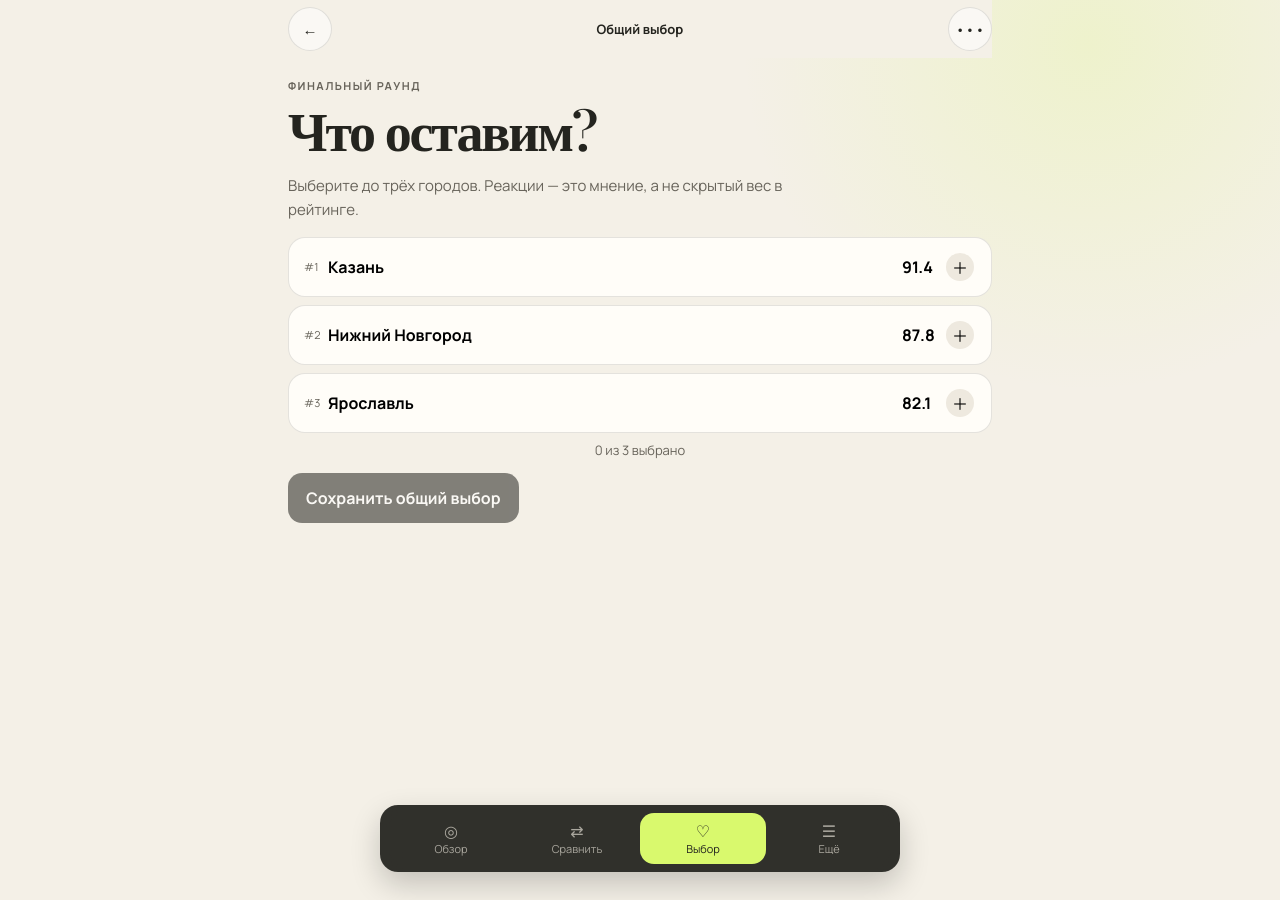
Test: core trip pages › persists reactions and shortlist choices
Check: the heading "Что оставим?" is shown, box [288,93,596,165]
Click the button with class "shortlist-item" showing "#1 Казань 91.4 ＋" at (356, 267), box [288,237,992,297]
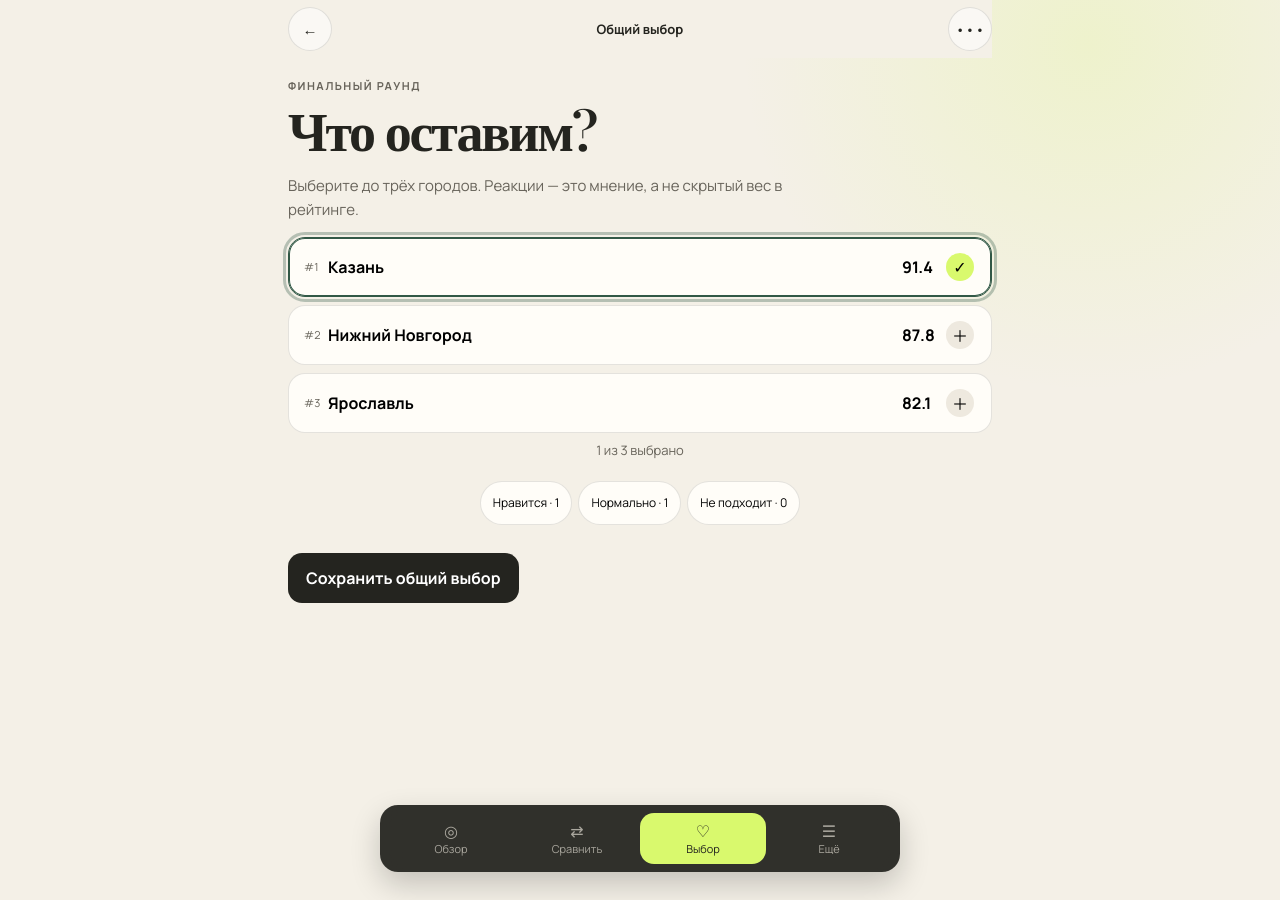
Click the button "Нравится · 1" at (526, 503), box [480,481,572,525]
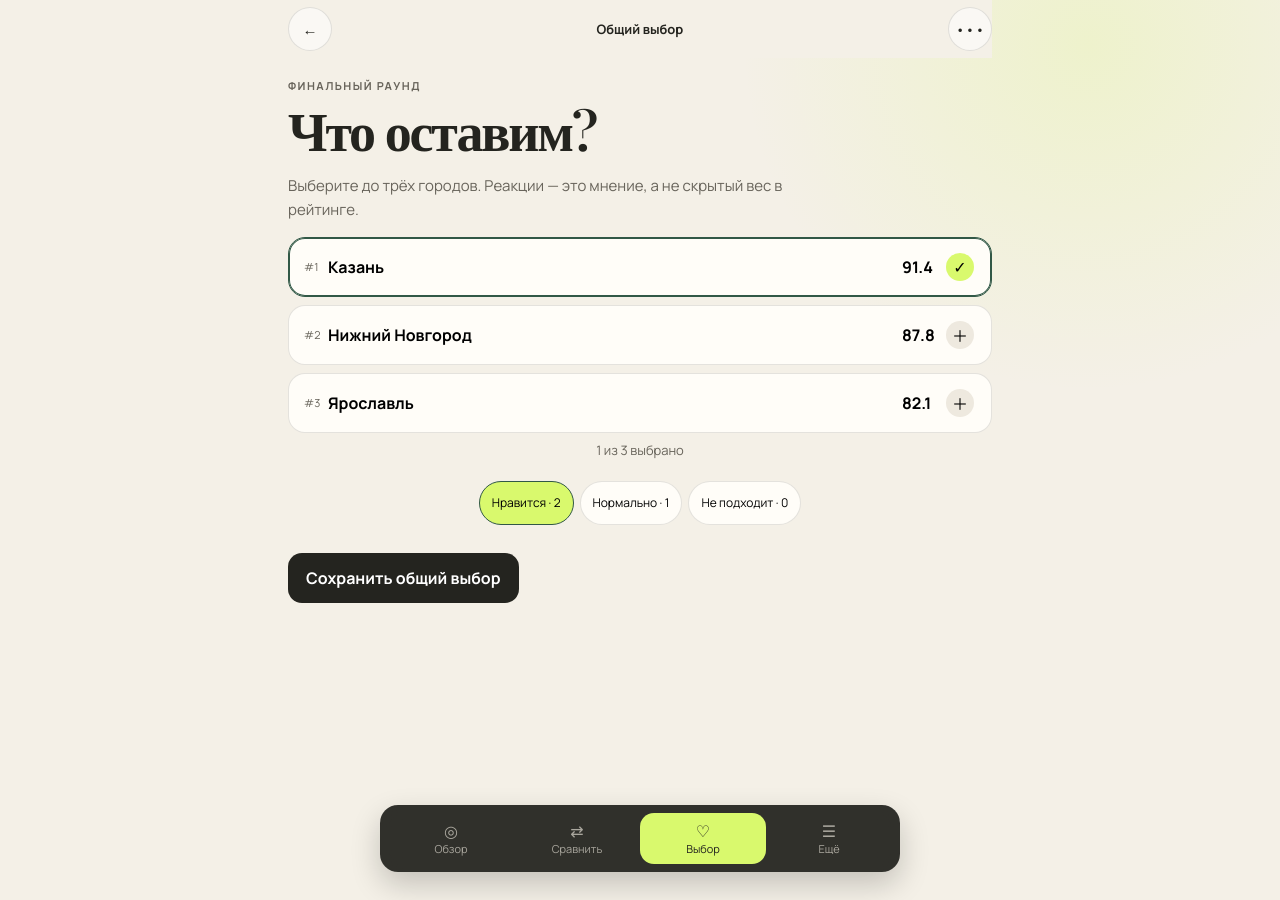
Check: the button "Нравится · 2" is shown, box [479,481,574,525]
Click the button "Сохранить общий выбор" at (403, 578), box [288,553,519,603]
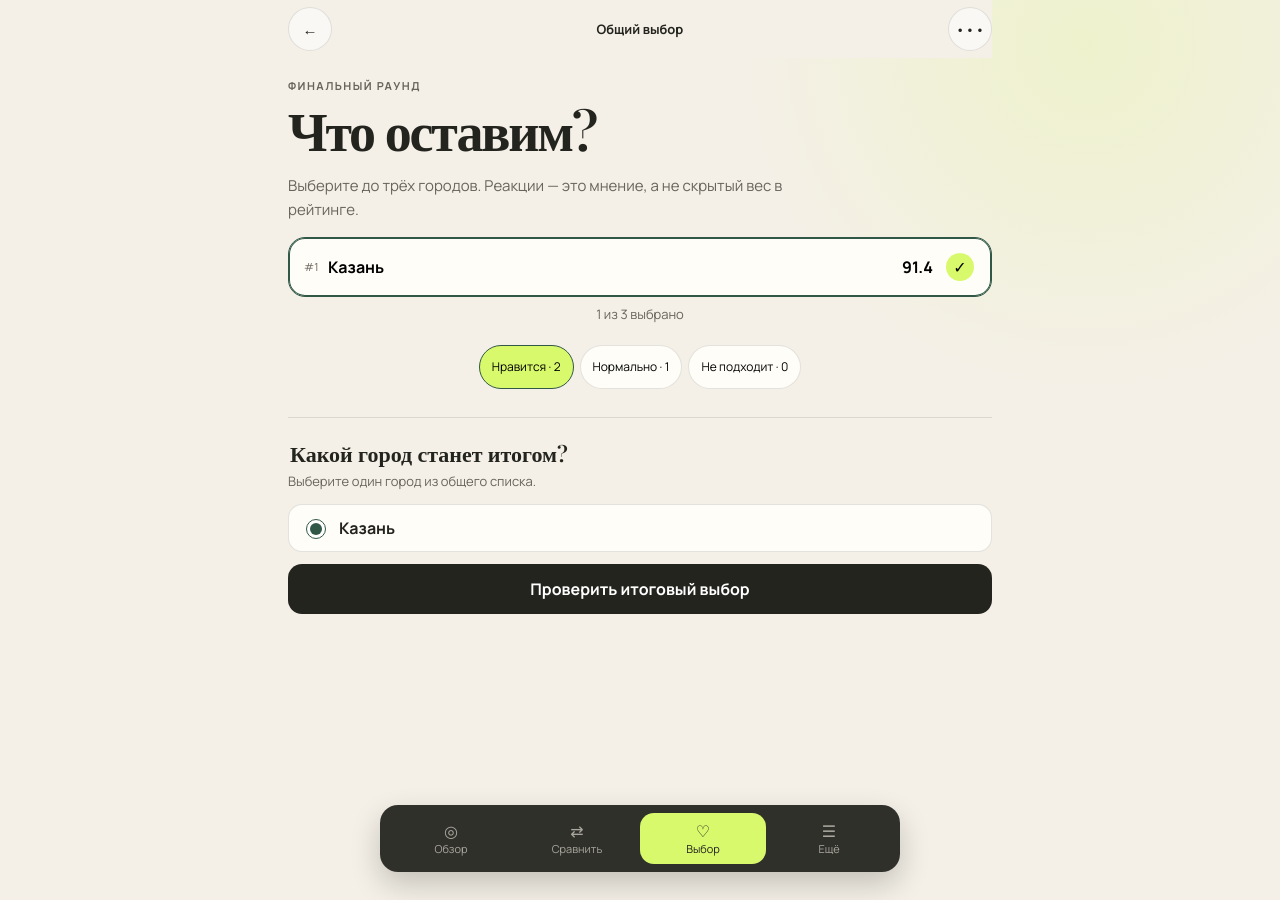
Check: the button "Проверить итоговый выбор" is shown
Click the button "Проверить итоговый выбор" at (640, 589), box [288,564,992,614]
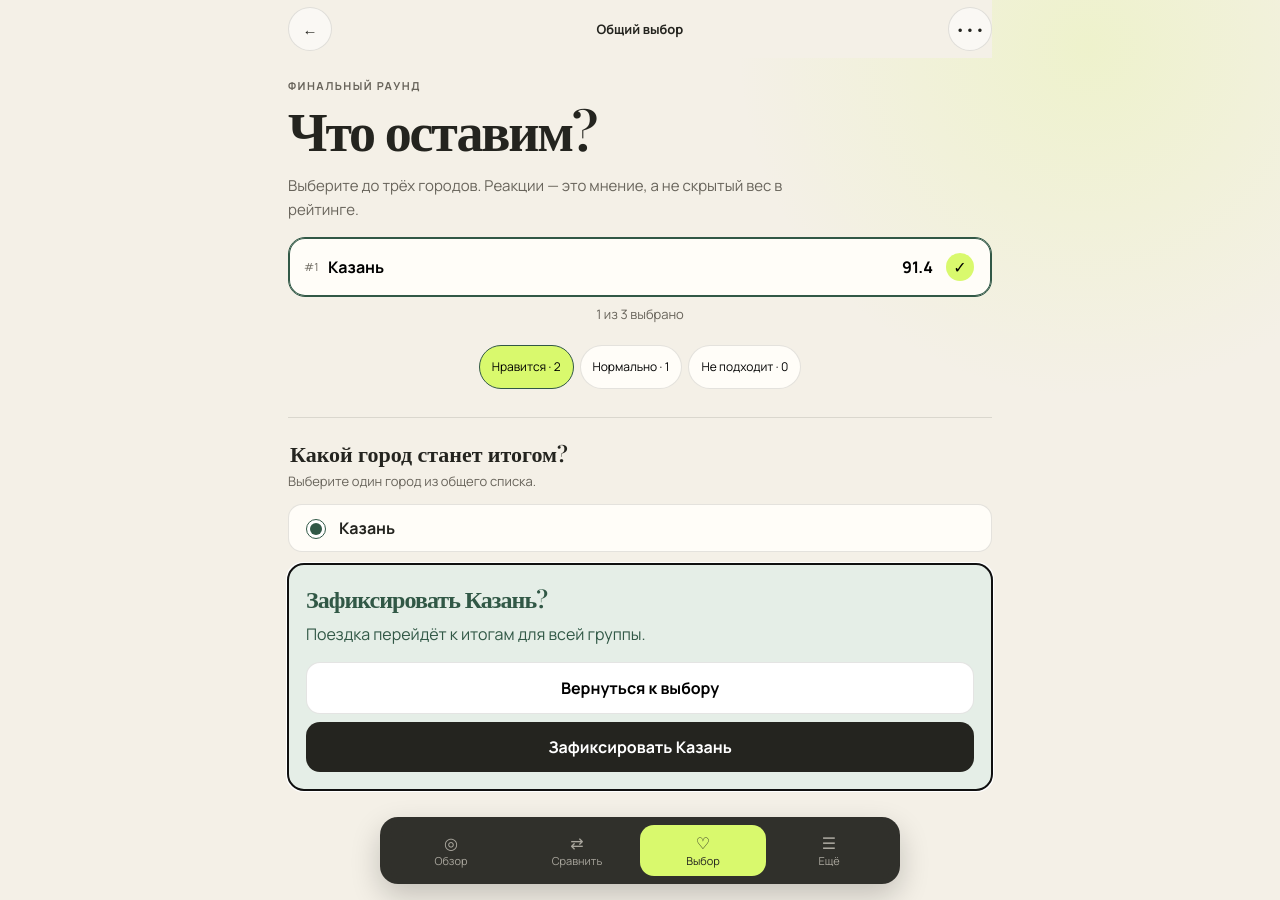
Check: the button "Зафиксировать Казань" is shown, box [306,722,974,772]
Check: the text "Поездка перейдёт к итогам для всей группы." is shown, box [306,623,646,645]
